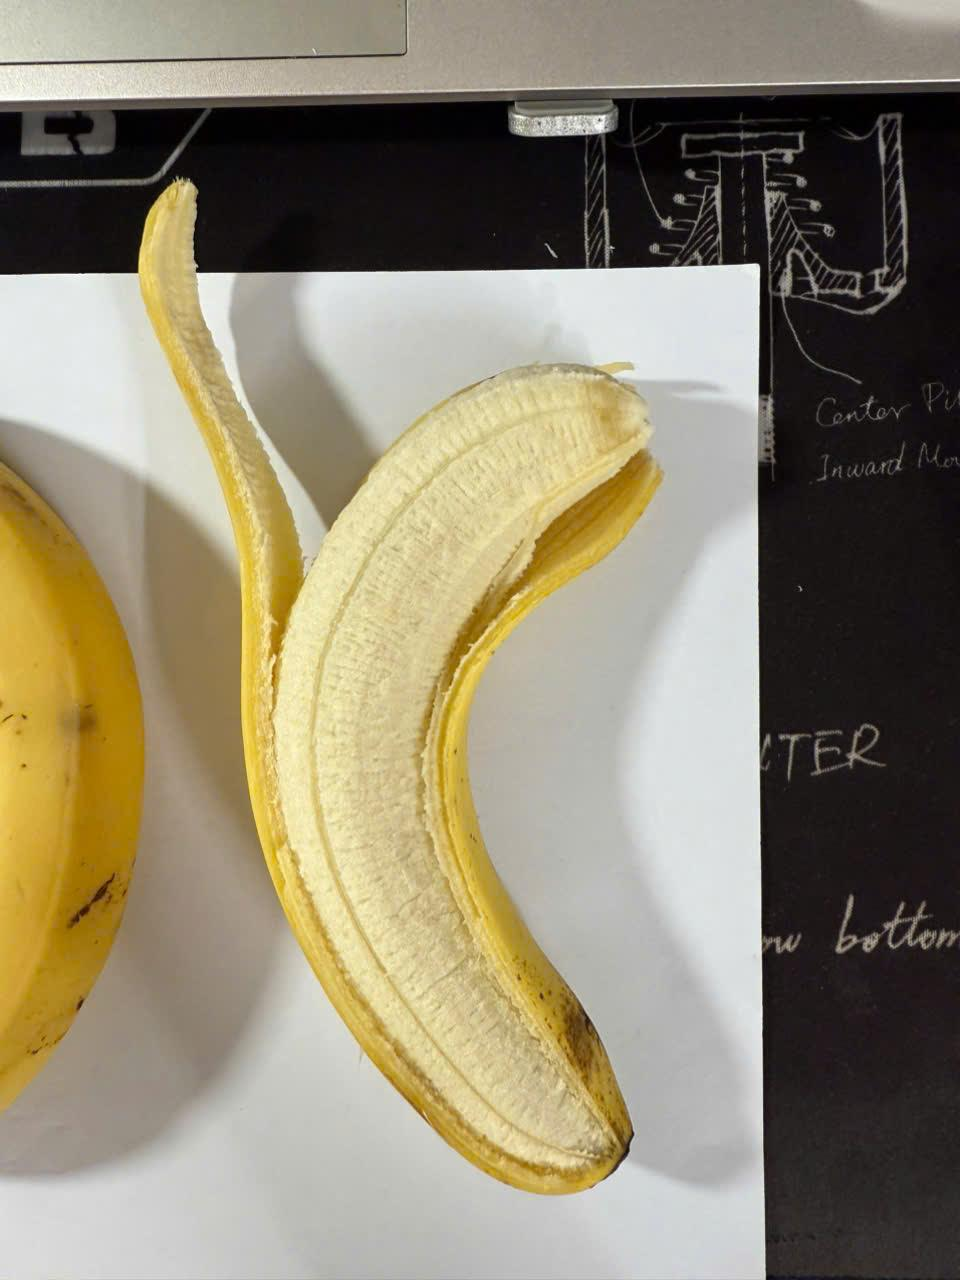banana: (262, 328, 712, 1232)
